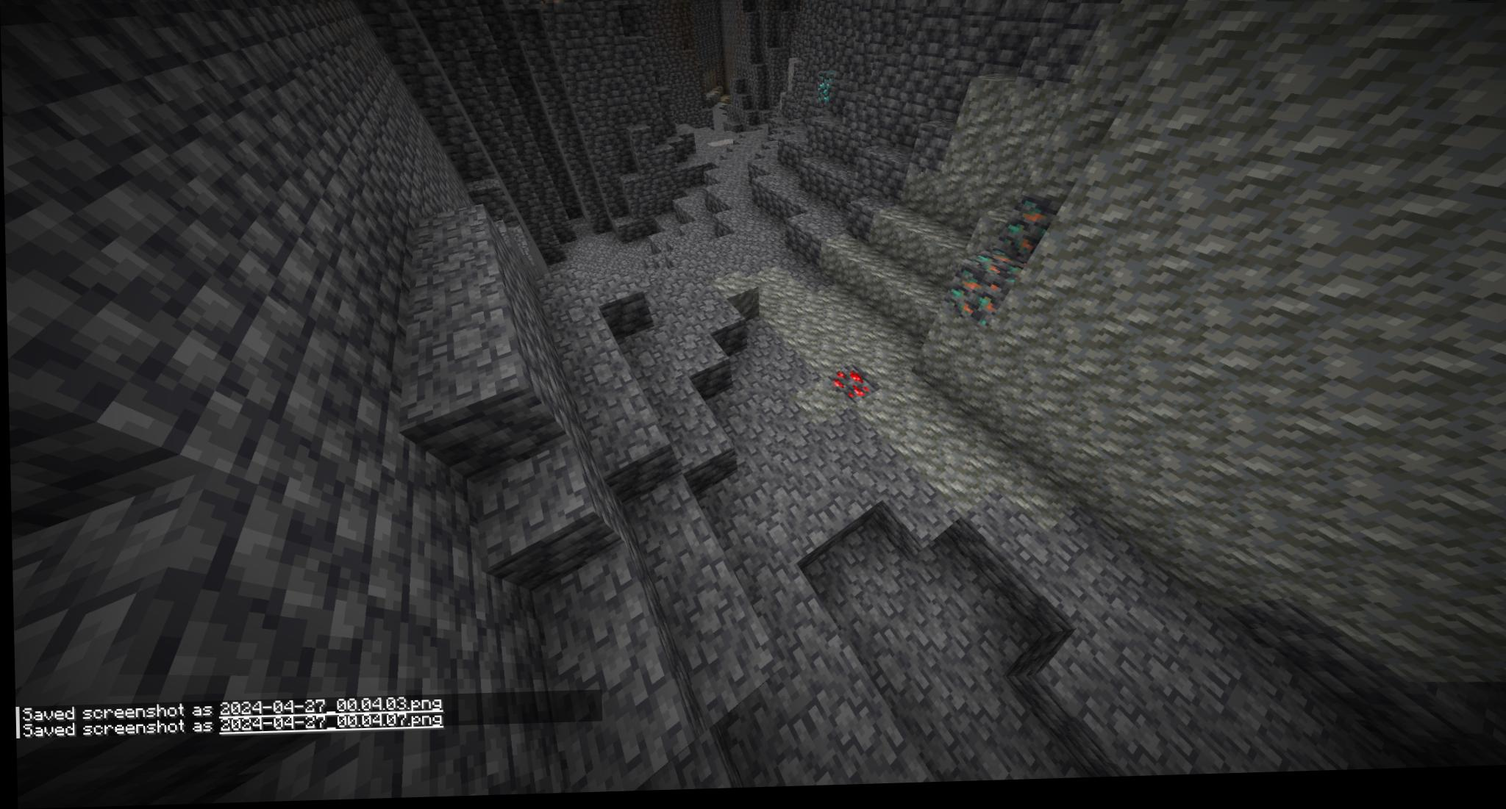diamond ore: (810, 70, 842, 109)
iron ore: (534, 0, 565, 14)
redstone ore: (825, 366, 867, 408)
